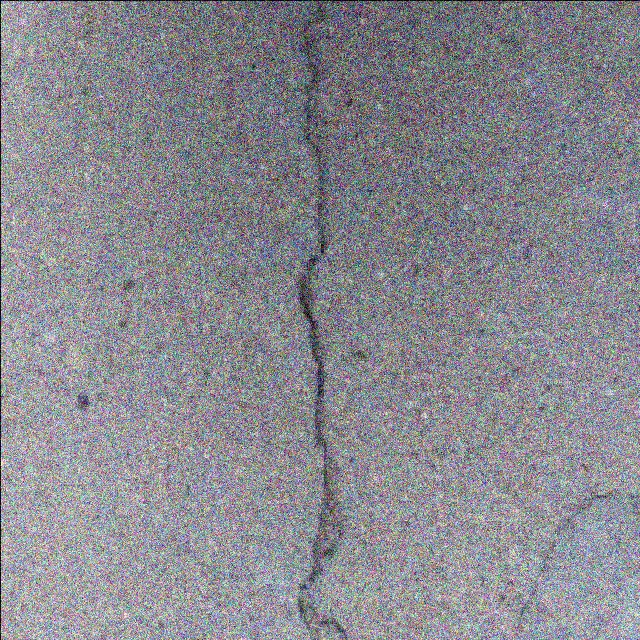SurfaceCrack: (248, 0, 376, 640)
